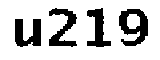1: (84, 6, 112, 51)
2: (44, 6, 80, 51)
9: (112, 7, 153, 50)
u: (12, 17, 45, 51)
